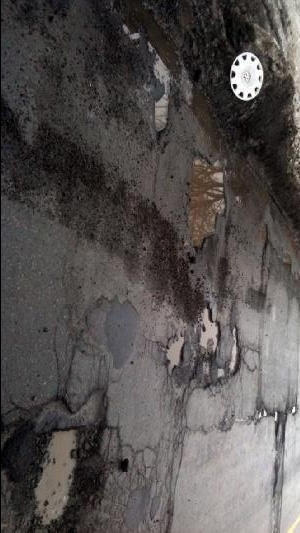pothole: (29, 421, 111, 531), (185, 154, 227, 252), (198, 305, 224, 353), (152, 91, 174, 135), (164, 333, 187, 374), (227, 323, 243, 374)
